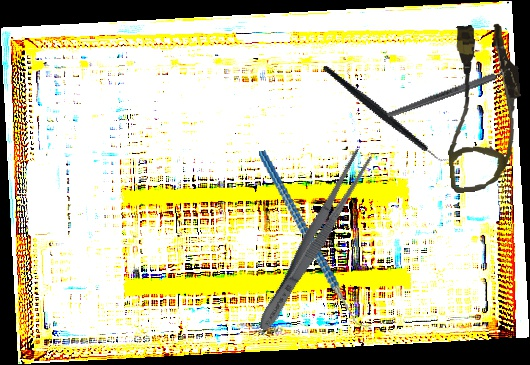Cannula: (437, 21, 529, 194)
Chopper: (258, 137, 373, 344), (322, 34, 454, 195)
Dressing Forceps: (251, 146, 376, 336)
Scalpel Handle: (386, 63, 520, 120)
